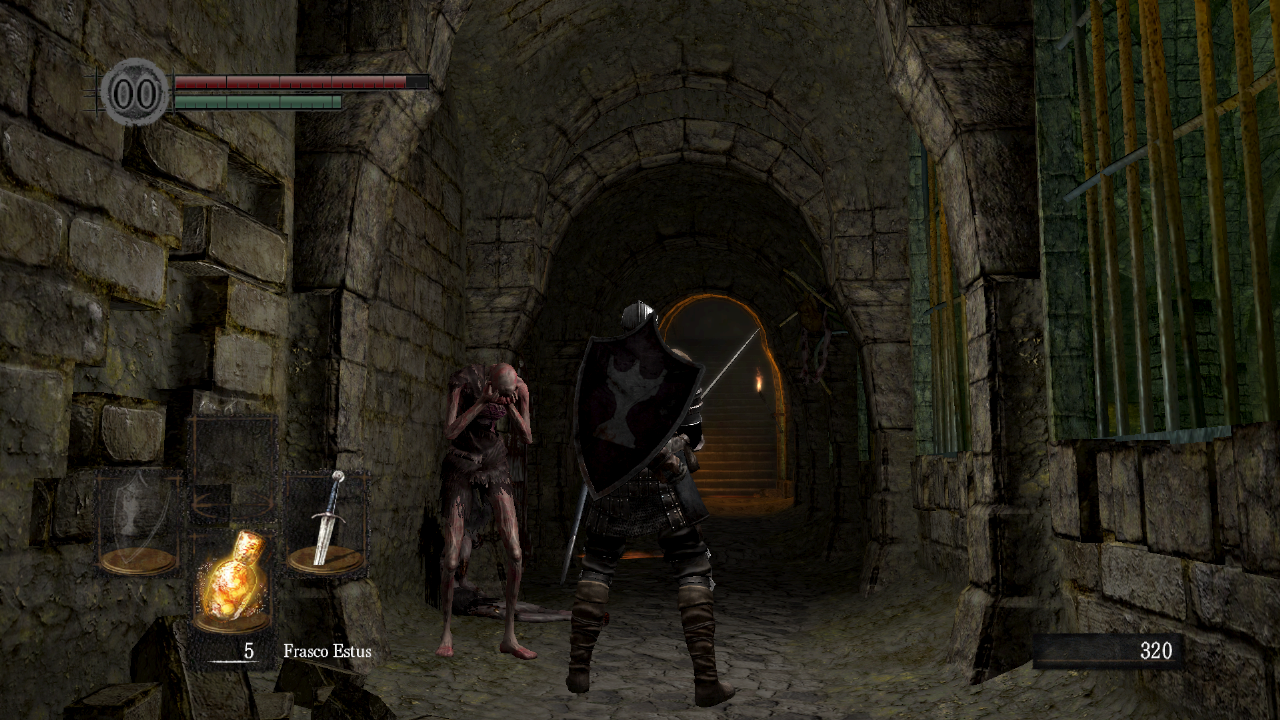hollow: (436, 361, 539, 661)
player: (561, 300, 761, 708)
